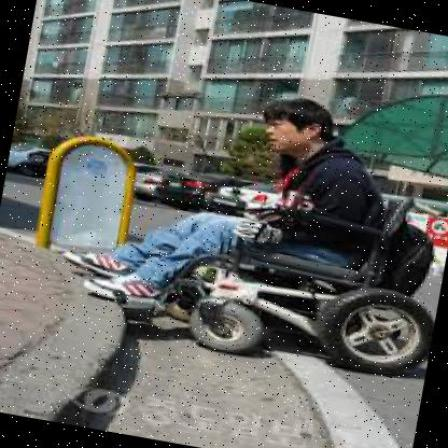wheel: (54, 64, 447, 388)
